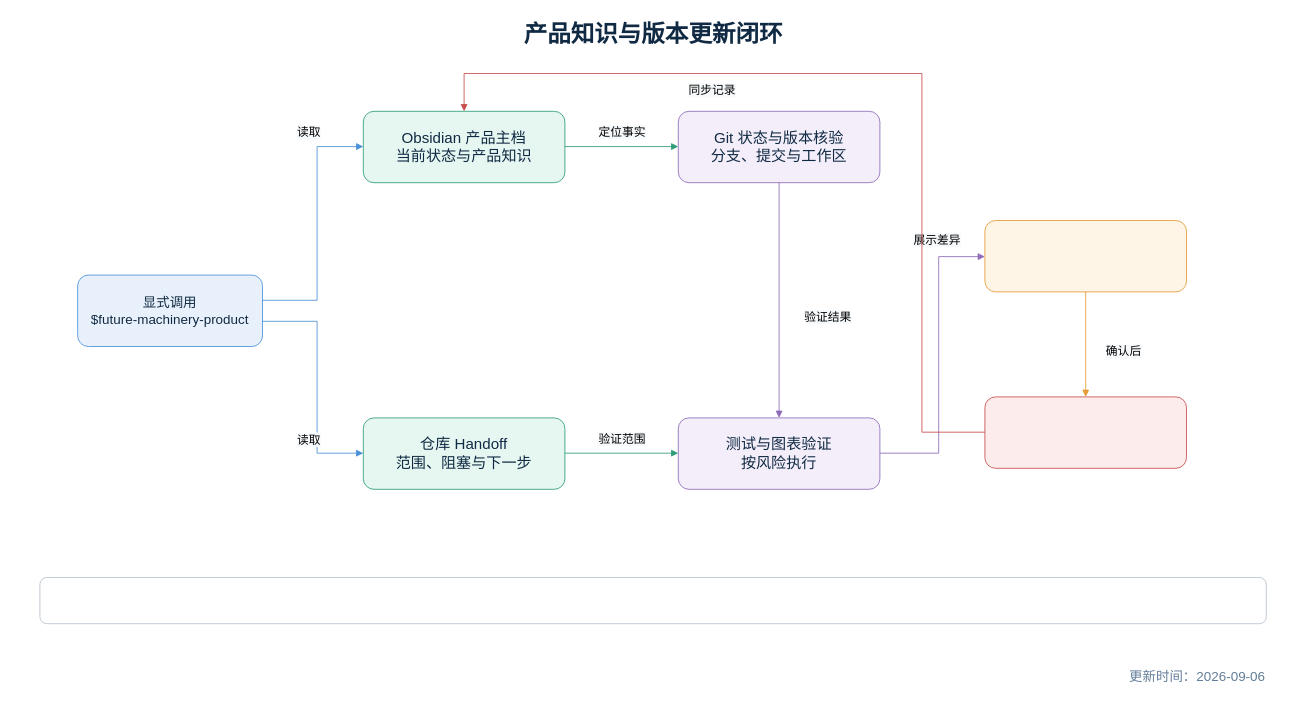
This 1305x705 diagram has some shape labels left out. The box of each missing label's shape, as (x1, y1, x2, y2) in pixels:
创建 Git 提交 仅确认后执行: (984, 396, 1186, 468)
图例：蓝色＝显式入口 绿色＝知识与交接记录 紫色＝版本与验证 橙色＝人工审阅 红色＝受确认约束的提交: (39, 577, 1266, 624)
差异审阅与用户确认 不自动部署或推送: (984, 220, 1186, 292)
